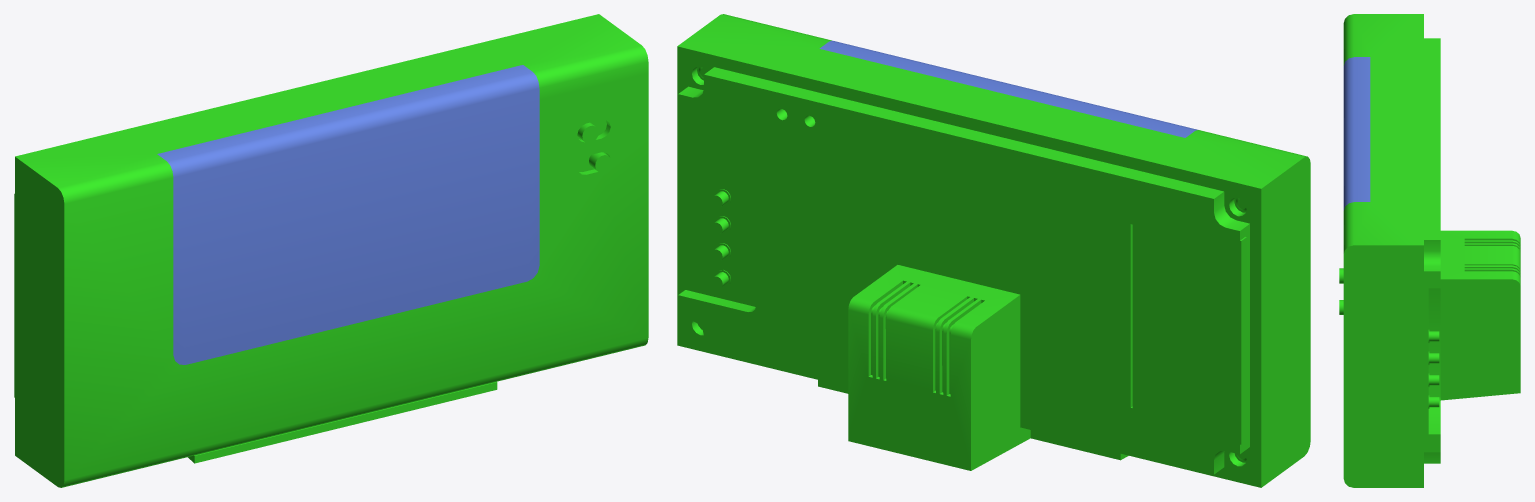
The model's file is UssrTime.fbx.
3 views of the same model, side by side, from view 1: azimuth 30°, elevation 25°; view 2: azimuth 150°, elevation 25°; view 3: azimuth 270°, elevation 25° (orthographic). The views are drawn at different scales.
Parts seen in each view (by area): view 1: box_low, glass_low, cup_low, buttons2_low; view 2: cup_low, box_low, battery_cup_low, glass_low, buttons_low; view 3: box_low, cup_low, glass_low, buttons_low.
Boxes of the visible parts, box(x1,y1,x2,y2) form: box_low: box(20, 17, 648, 487); glass_low: box(157, 65, 539, 364); cup_low: box(15, 14, 603, 463); buttons2_low: box(577, 119, 611, 172); cup_low: box(677, 42, 1266, 487); box_low: box(682, 14, 1310, 483); battery_cup_low: box(1132, 224, 1246, 444); glass_low: box(819, 40, 1197, 137); buttons_low: box(711, 189, 730, 288); box_low: box(1343, 14, 1415, 487); cup_low: box(1415, 14, 1520, 487); glass_low: box(1343, 57, 1370, 210); buttons_low: box(1428, 329, 1439, 408).
Size of the model in its own units: 368 by 188 by 122.
